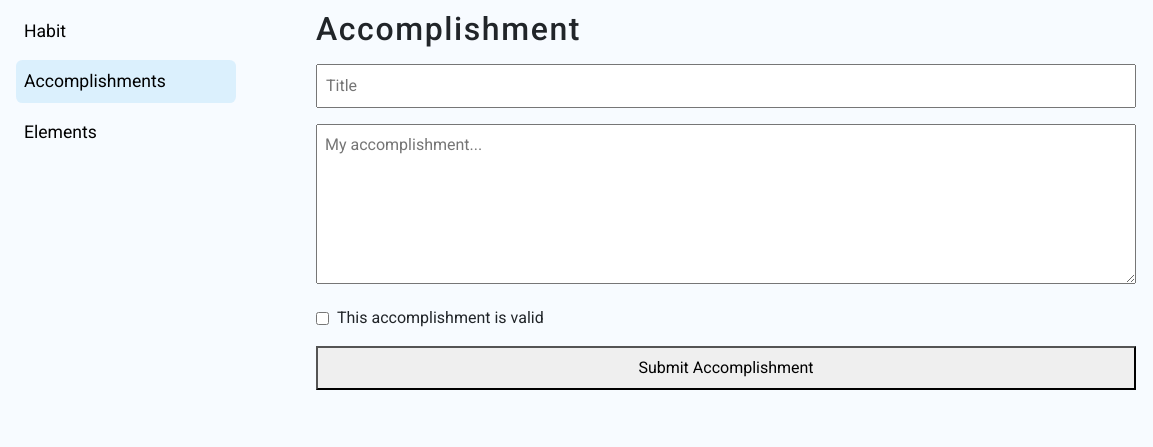
Scenario: Accomplishment Dashboard › should showcase error if information is missing
Type "Basketball accomplishments" into the field with test id "accomplishment-title-input".
click(726, 86); type("Basketball accomplishments")  # box [316,64,1136,108]
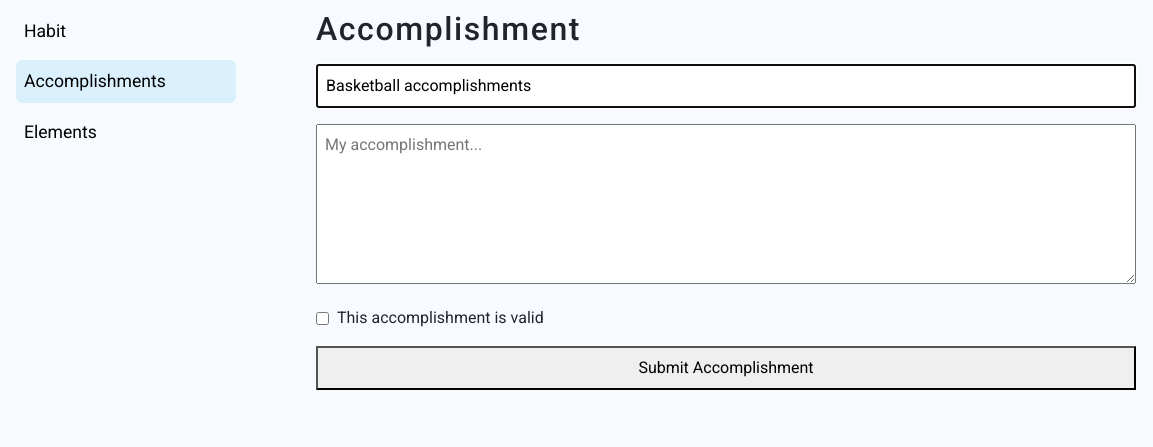
Type "I did a couple fade aways." into the text box with test id "accomplishment-input".
click(726, 204); type("I did a couple fade aways.")  # box [316,124,1136,284]
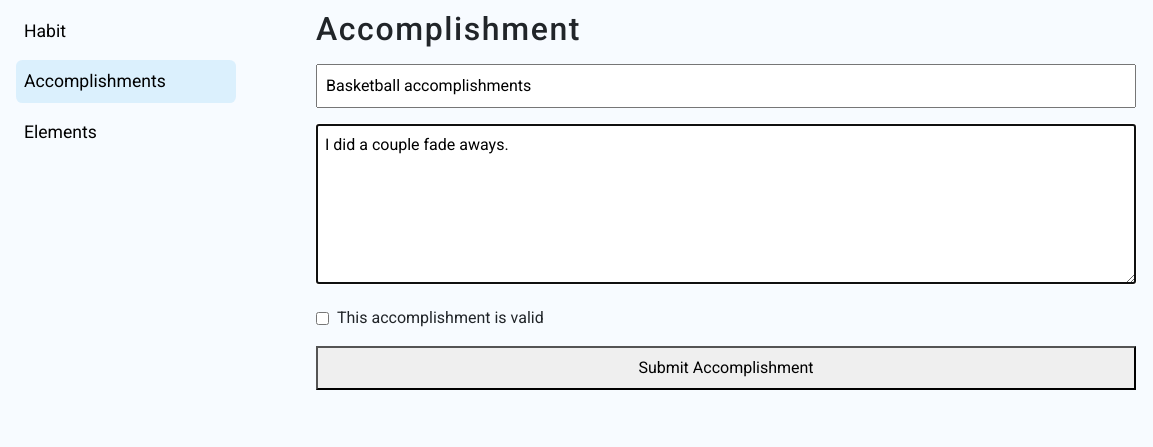
Click the button "Submit Accomplishment".
click(726, 368)  # box [316,346,1136,390]
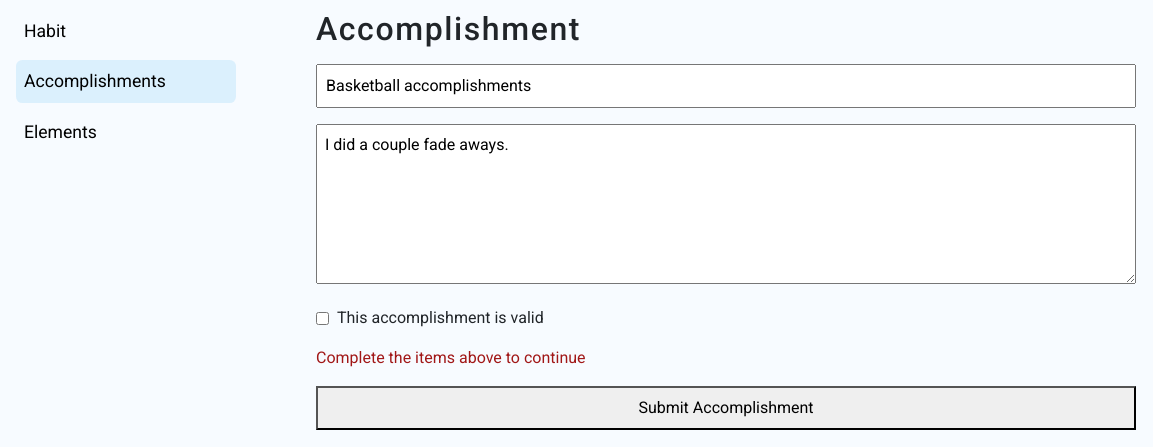
Expected: the element showing "Complete the items above to continue" is shown, [316,348,586,367]
